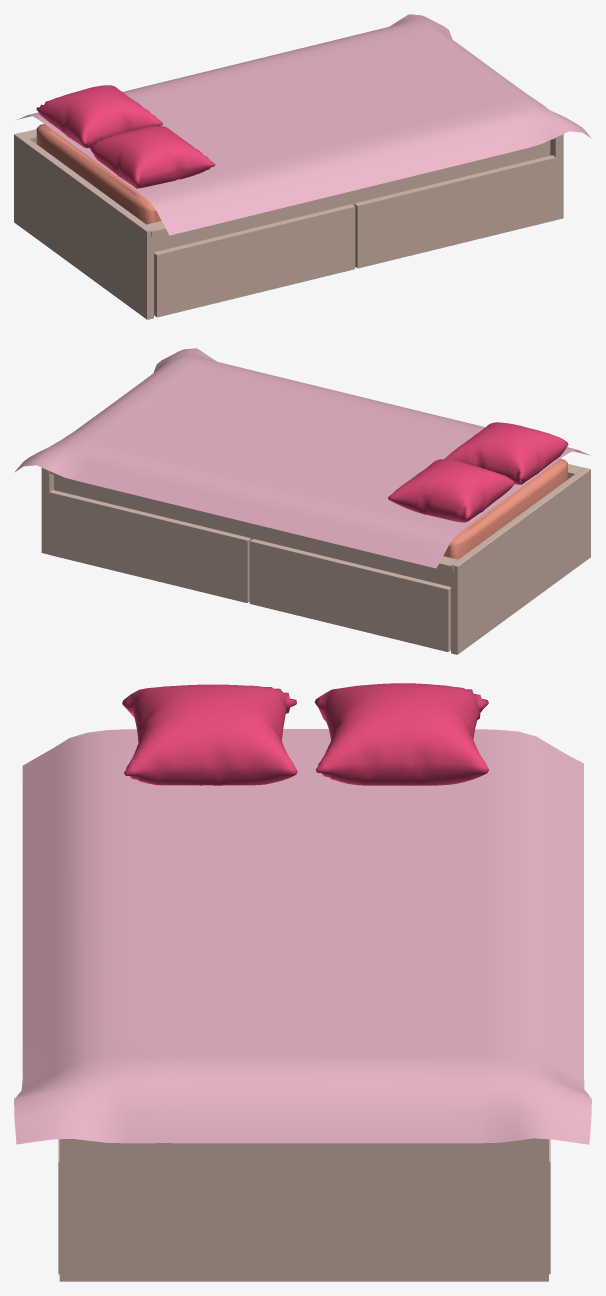
Rendered from bed_yoni.fbx.
3 views of the same model, one above another, from view 1: azimuth 30°, elevation 25°; view 2: azimuth 150°, elevation 25°; view 3: azimuth 270°, elevation 25° (orthographic). The views are drawn at different scales.
Parts seen in each view (by area): view 1: BedSheet, BedFrameYoni, Pillow.001, Pillow; view 2: BedSheet, BedFrameYoni, Pillow, Pillow.001; view 3: BedSheet, BedFrameYoni, Pillow.001, Pillow.
Boxes of the visible parts, x1=… form: BedSheet: x1=16, y1=14, x2=591, y2=235; BedFrameYoni: x1=14, y1=124, x2=563, y2=319; Pillow.001: x1=89, y1=126, x2=215, y2=188; Pillow: x1=36, y1=85, x2=163, y2=148; BedSheet: x1=14, y1=348, x2=590, y2=568; BedFrameYoni: x1=41, y1=458, x2=590, y2=654; Pillow: x1=388, y1=459, x2=514, y2=522; Pillow.001: x1=444, y1=422, x2=568, y2=484; BedSheet: x1=14, y1=729, x2=591, y2=1144; BedFrameYoni: x1=58, y1=1138, x2=550, y2=1281; Pillow.001: x1=122, y1=684, x2=297, y2=785; Pillow: x1=314, y1=683, x2=488, y2=785.
Size of the model in its own units: 1398 by 453 by 896.
